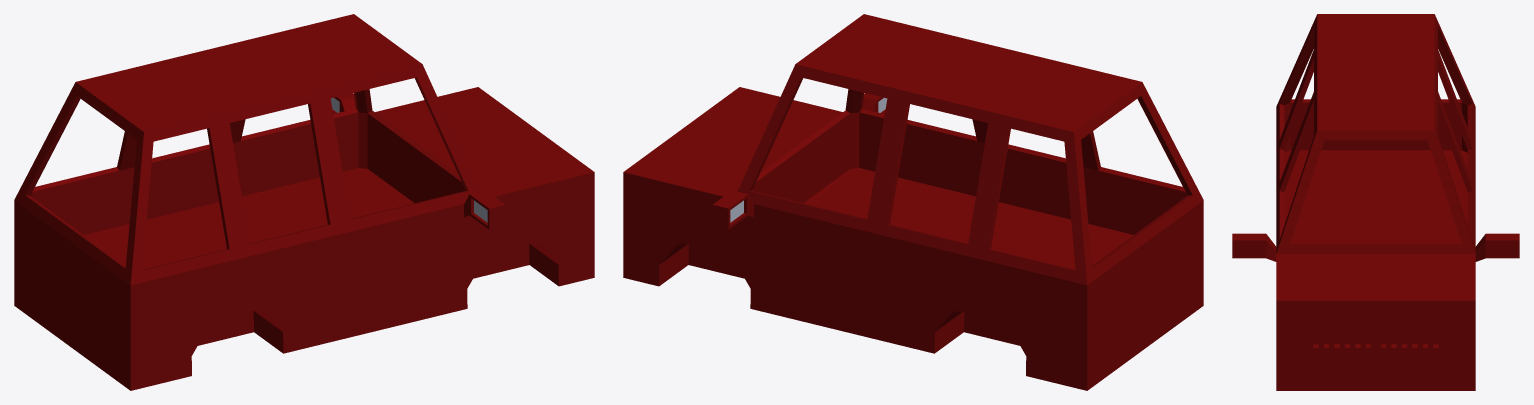
Rendered from Car.glb.
The picture shows the model from 3 angles, left to right: view 1: azimuth 30°, elevation 25°; view 2: azimuth 150°, elevation 25°; view 3: azimuth 270°, elevation 25°; orthographic projection. The views are drawn at different scales.
Visible parts, largest first — view 1: Cube.035; view 2: Cube.035; view 3: Cube.035.
Boxes of the visible parts, x1,y1,x2,y2 form: Cube.035: [14, 14, 594, 390]; Cube.035: [623, 14, 1203, 390]; Cube.035: [1232, 14, 1519, 390].
Bounding box in the file's own units: 0.1484 × 0.0709 × 0.0929.
1 material, 1 textured.
